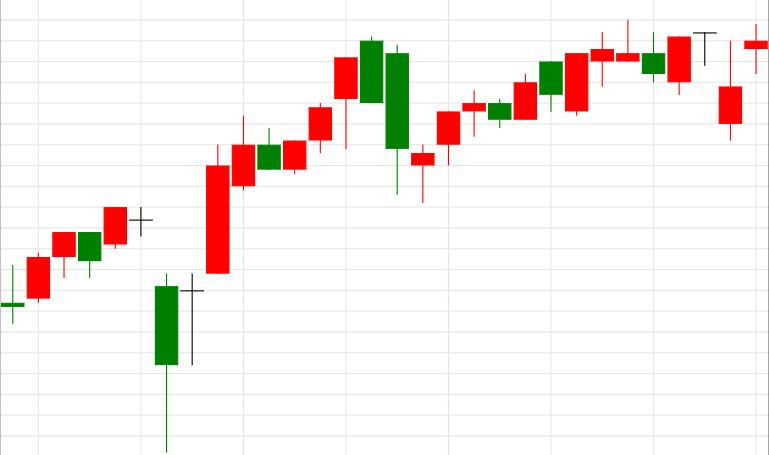hanging_man_fall: (206, 57, 358, 274)
